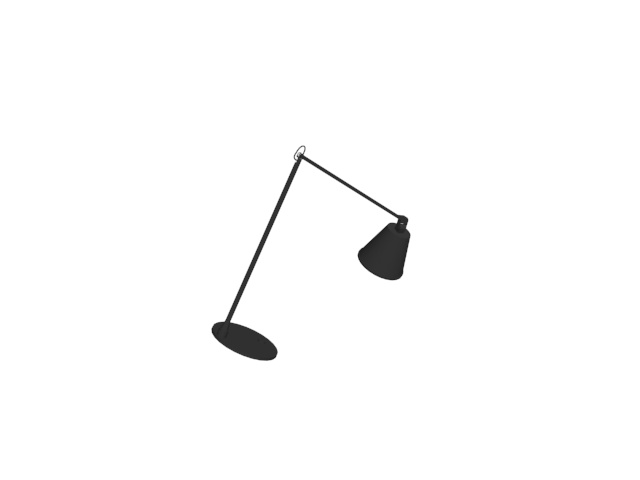desk_lamp: (209, 145, 416, 368)
